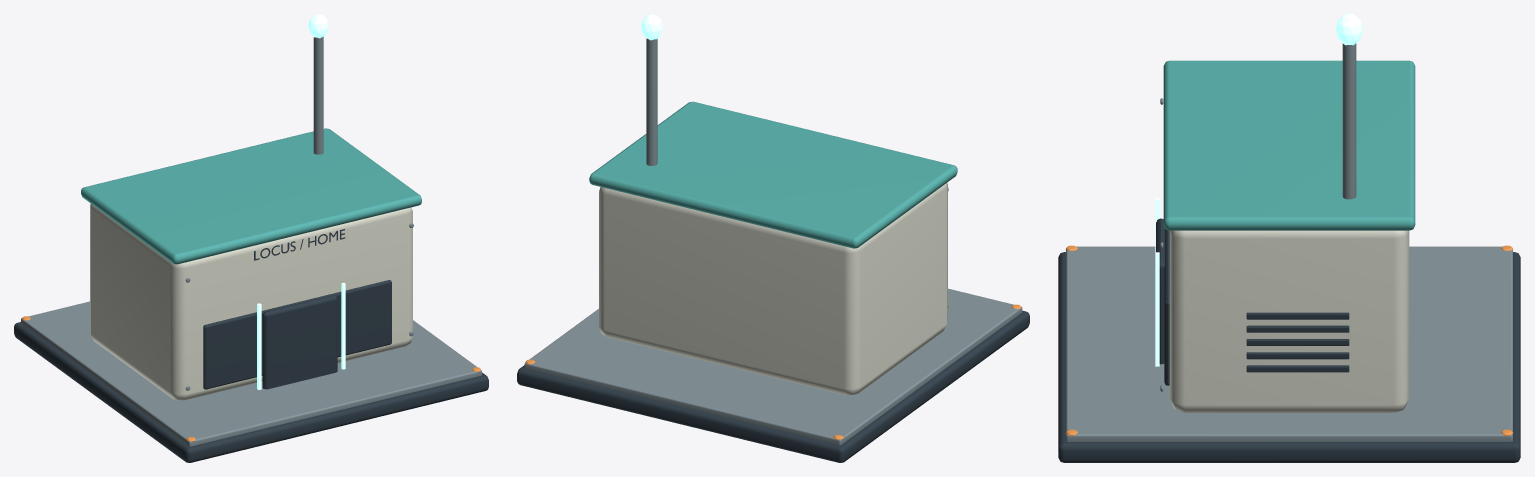
3 views of the same model, side by side, from view 1: azimuth 30°, elevation 25°; view 2: azimuth 150°, elevation 25°; view 3: azimuth 270°, elevation 25° (orthographic). The views are drawn at different scales.
Parts seen in each view (by area): view 1: Machine shell, Roof trim, Foundation graphite, Inset apron, Door illumination; view 2: Machine shell, Roof trim, Inset apron, Foundation graphite; view 3: Inset apron, Roof trim, Machine shell, Foundation graphite, Door illumination.
Boxes of the visible parts, x1,y1,x2,y2 form: Machine shell: (90, 203, 412, 400); Roof trim: (81, 128, 421, 264); Foundation graphite: (14, 229, 488, 462); Inset apron: (21, 36, 481, 446); Door illumination: (257, 14, 345, 389); Machine shell: (599, 183, 947, 395); Roof trim: (589, 101, 957, 248); Inset apron: (524, 38, 1022, 445); Foundation graphite: (517, 310, 1029, 462); Inset apron: (1066, 43, 1512, 441); Roof trim: (1163, 60, 1415, 230); Machine shell: (1169, 230, 1409, 412); Foundation graphite: (1058, 218, 1520, 462); Door illumination: (1155, 14, 1362, 366).
Bounding box in the file's own units: 5.4 × 5.3 × 5.4.
